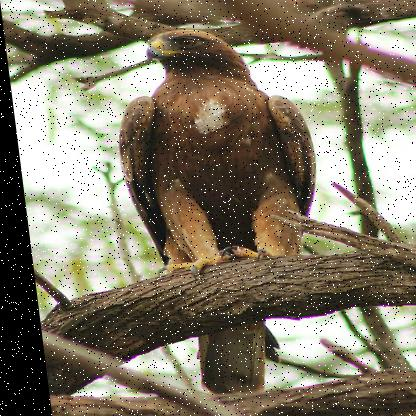Burung: (101, 28, 335, 394)
